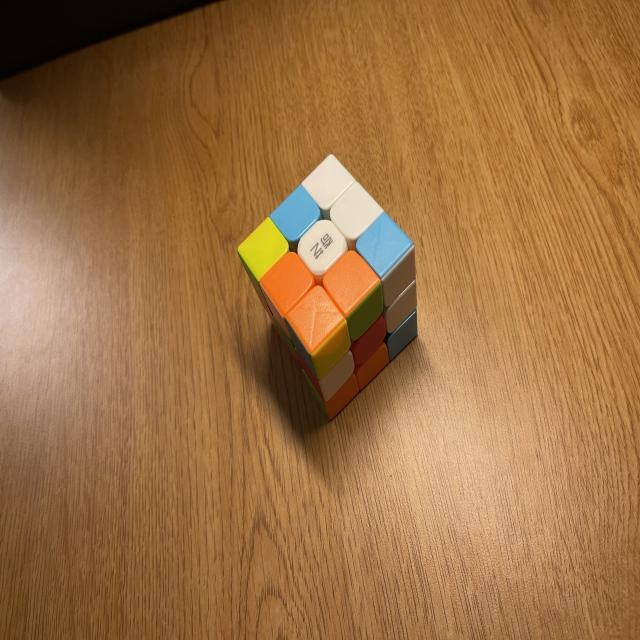Rubiks Cube: (237, 154, 417, 426)
